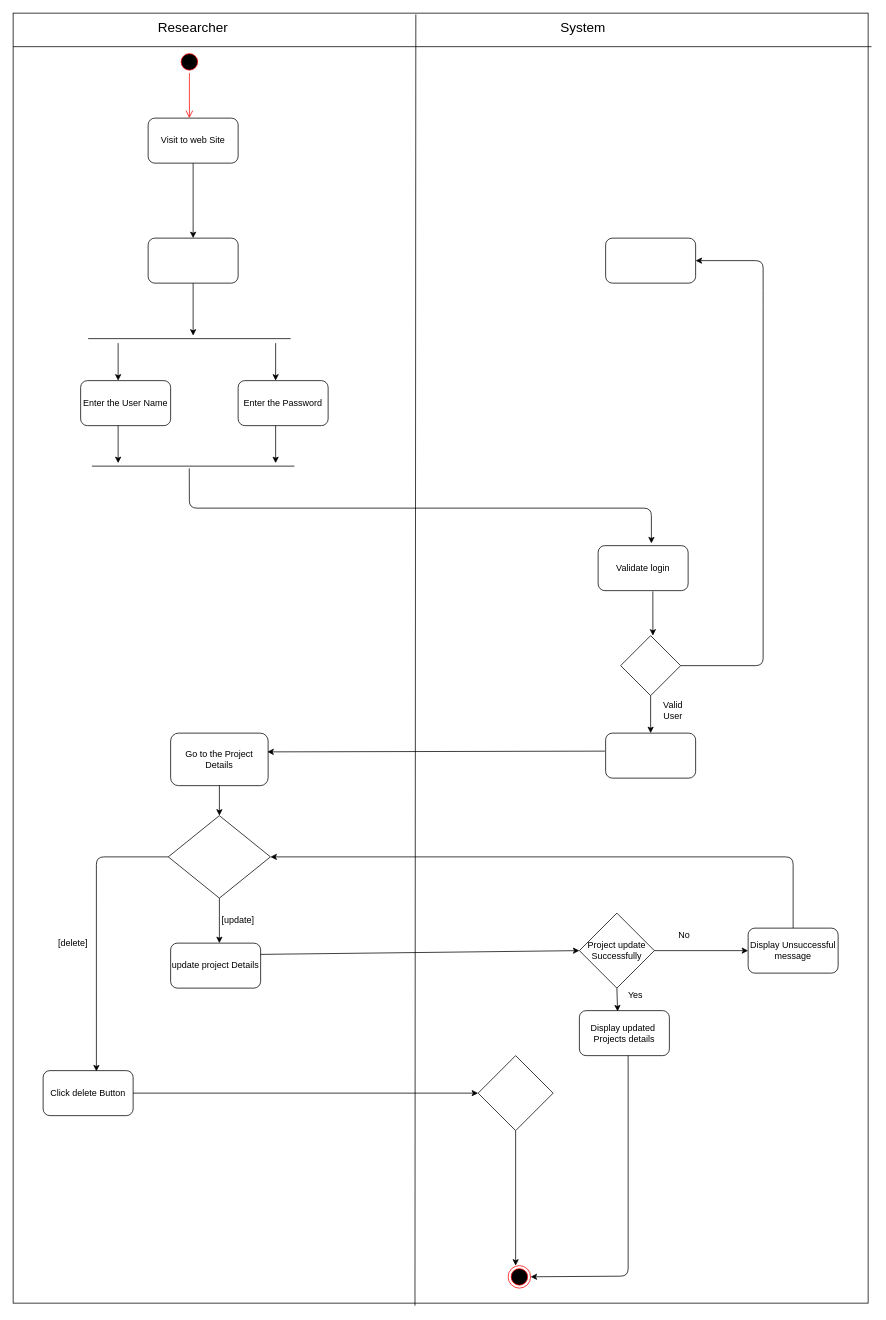
Some shapes in this 886 by 1320 pixel diagram are drawn without their labels. Each missing label, with the centre of its shape:
Display Incorrect Credentials: the point at 650,260
Login to the Account: the point at 192,260
Login to the SIte: the point at 650,755
Project delete Successfully: the point at 515,1093
Want to modify Details of the existing Project: the point at 219,856
